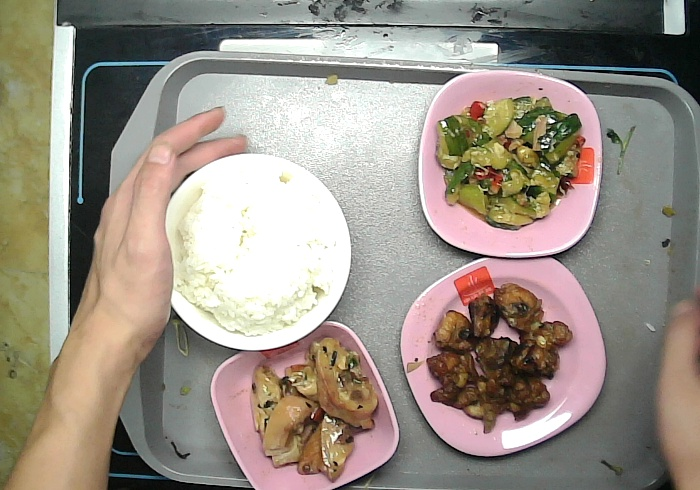SHKJ-Fan_Wan: (148, 152, 355, 350)
SHKJ-Fen_Se_Cai_Die: (414, 67, 605, 258)
SHKJ-Fen_Se_Si_Fang_Cai_Die: (401, 256, 619, 462)
SHKJ-Fen_Se_Xiao_Fang_Die: (206, 318, 402, 490)
